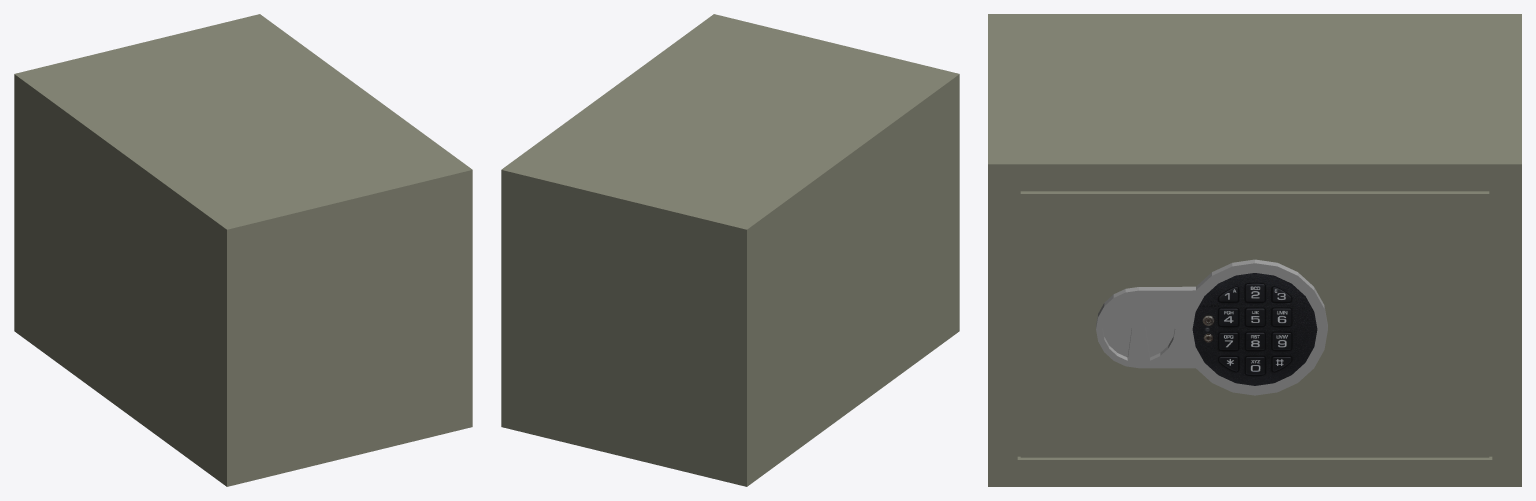
Rendered from safe.fbx.
3 renders of one model, left to right at view 1: azimuth 30°, elevation 25°; view 2: azimuth 150°, elevation 25°; view 3: azimuth 270°, elevation 25°, orthographic. The views are drawn at different scales.
Parts seen in each view (by area): view 1: safe; view 2: safe; view 3: safe.
Part boxes in pixels (<box>): safe: <box>14,14,472,486</box>; safe: <box>501,14,959,486</box>; safe: <box>988,14,1521,486</box>.
Bounding box in the file's own units: 40.99 × 40 × 60.
3 materials, 1 textured.
